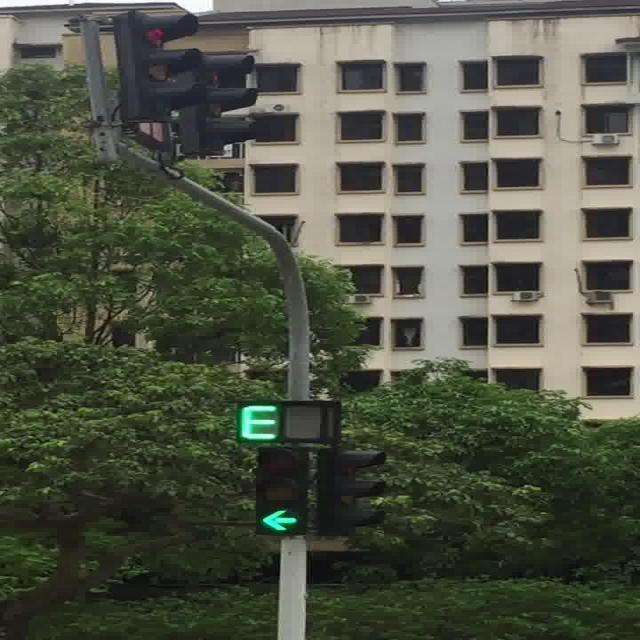green_light: (256, 447, 308, 535)
